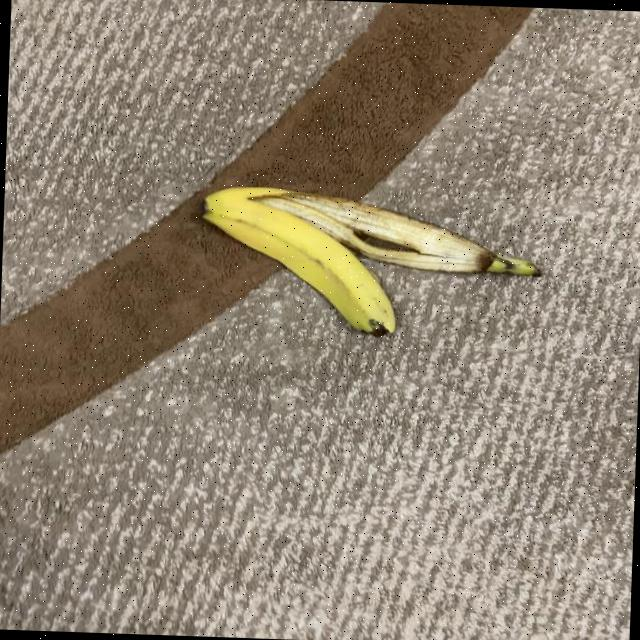banana-peel: (196, 182, 400, 338), (250, 185, 542, 278)
